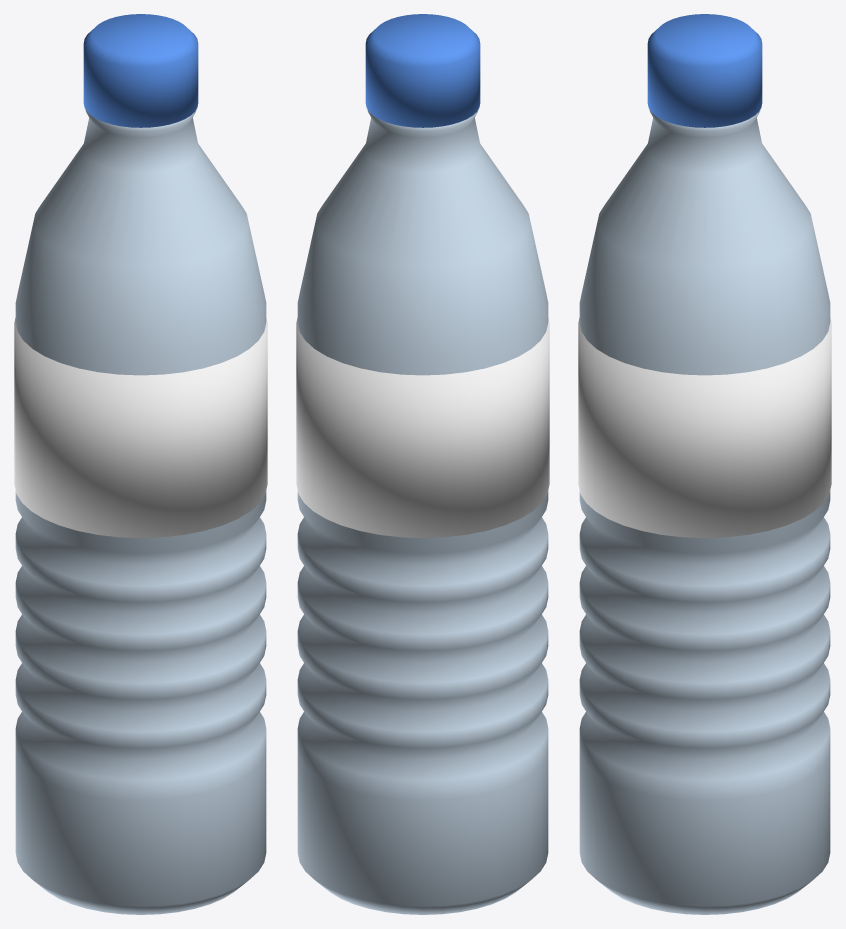
The model's file is SM_Water.glb.
3 renders of one model, left to right at view 1: azimuth 30°, elevation 25°; view 2: azimuth 150°, elevation 25°; view 3: azimuth 270°, elevation 25°, orthographic.
Parts seen in each view (by area): view 1: SM_Water; view 2: SM_Water; view 3: SM_Water.
Part boxes in pixels (x1,y1,x2,y2): SM_Water: (14, 14, 267, 914); SM_Water: (296, 14, 549, 914); SM_Water: (578, 14, 831, 914).
Bounding box in the file's own units: 0.0566 × 0.206 × 0.0566.
